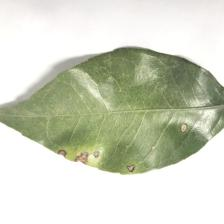canker: (42, 118, 200, 177)
